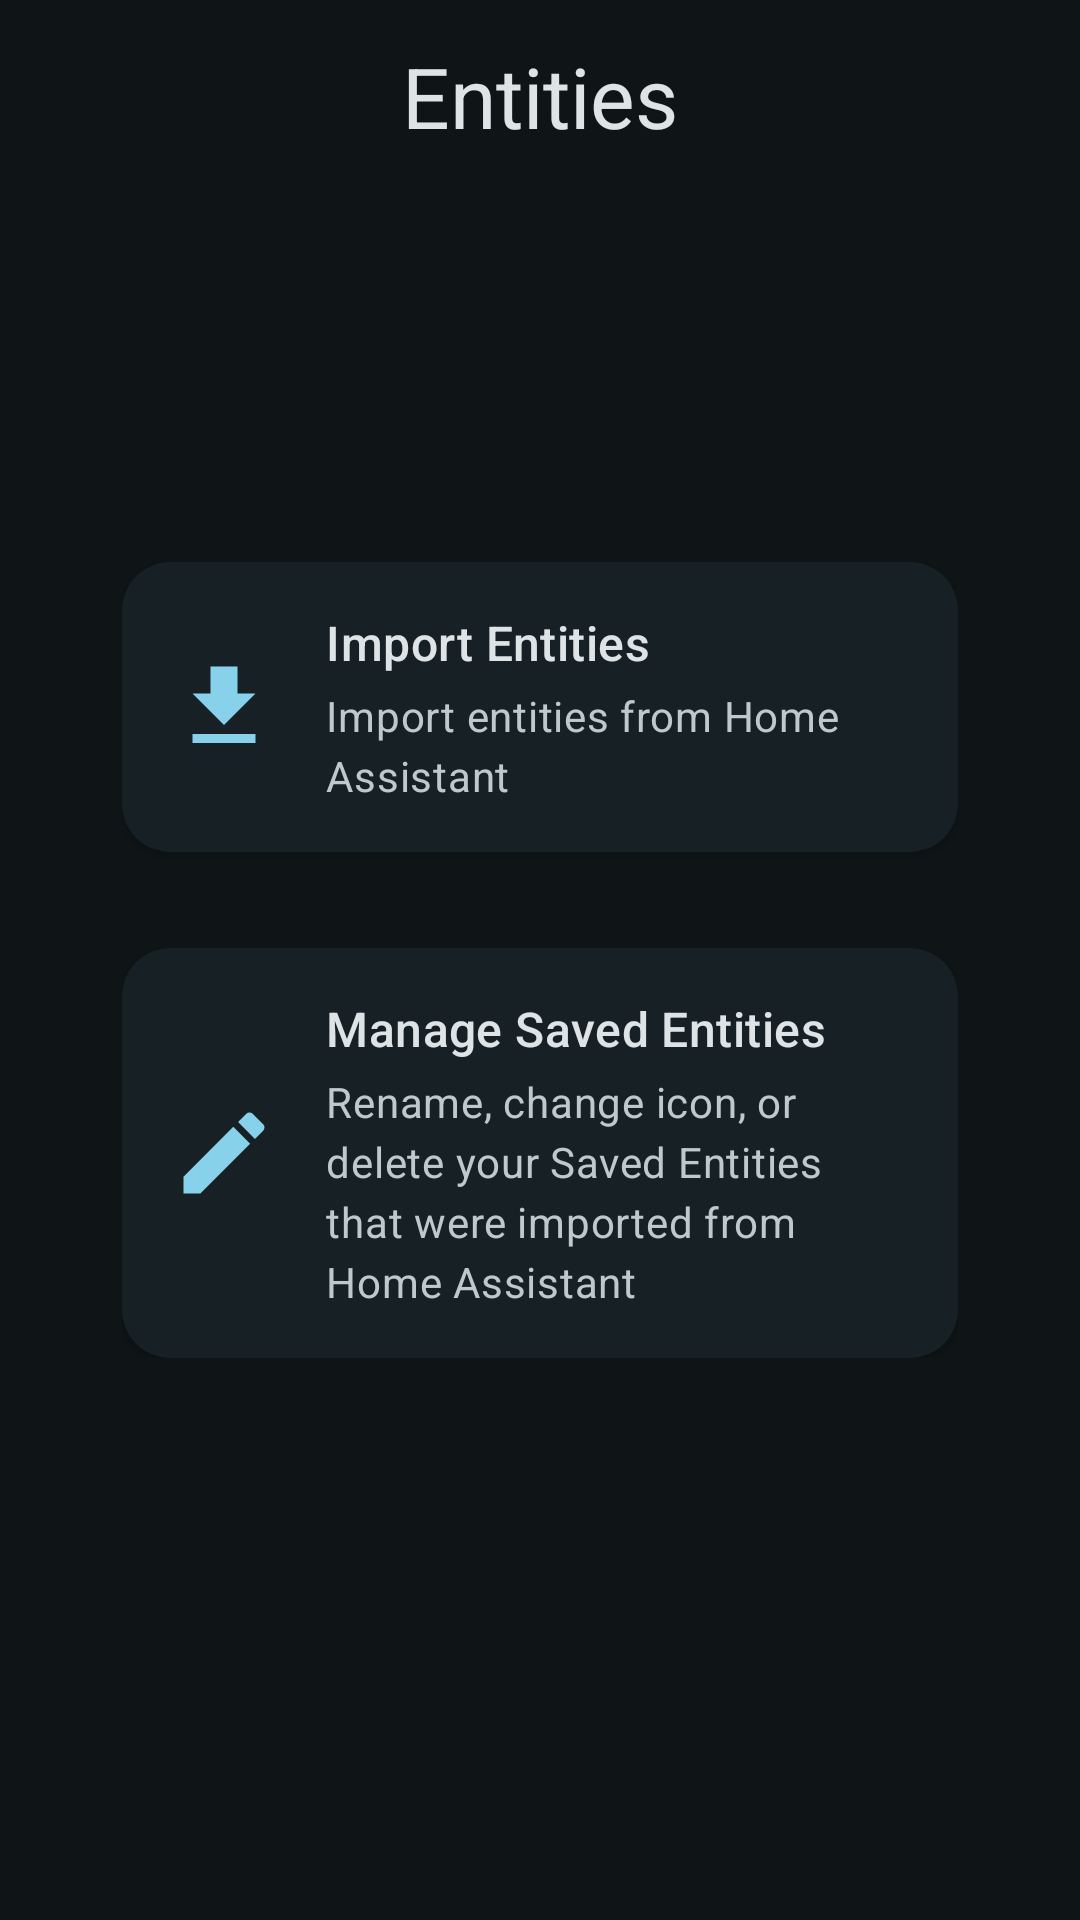

Icons on this 1080px×1920px Android screen, each with the point to tap as point (x, y):
download: point (224, 704)
edit: point (224, 1153)
